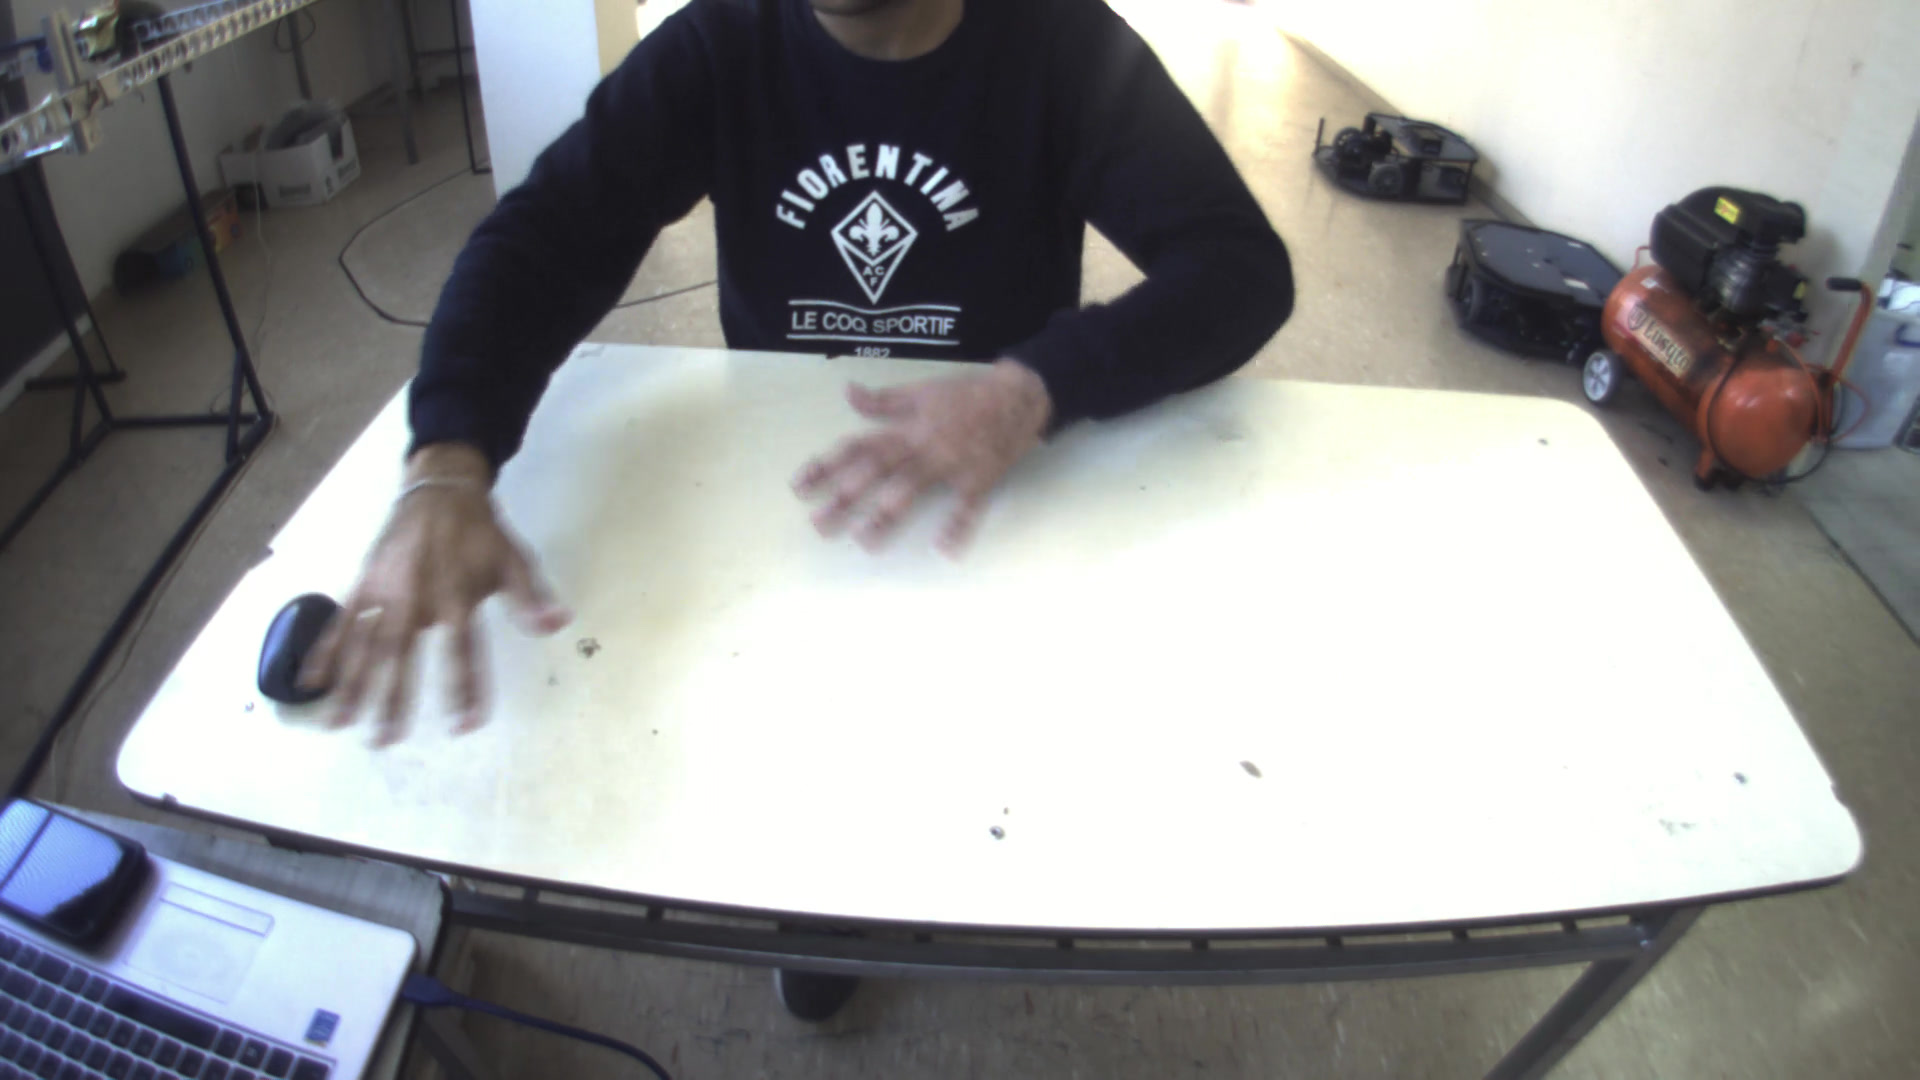hand: (278, 436, 567, 764), (785, 345, 1052, 563)
